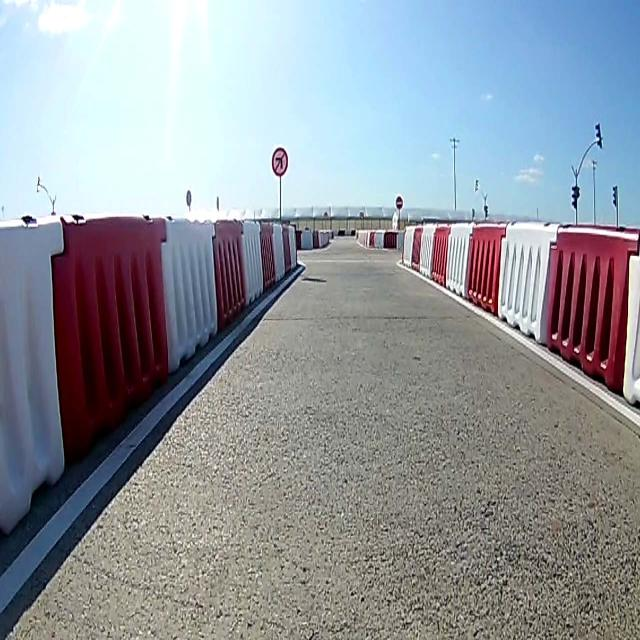girisyok: (395, 196, 403, 210)
soladonulmez: (271, 147, 289, 176)
